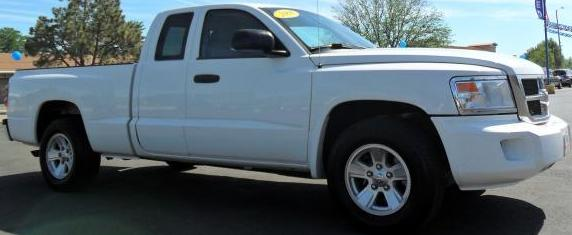front_view: (449, 58, 570, 187)
headlight: (430, 64, 522, 129)
side_glass: (155, 15, 293, 57)
